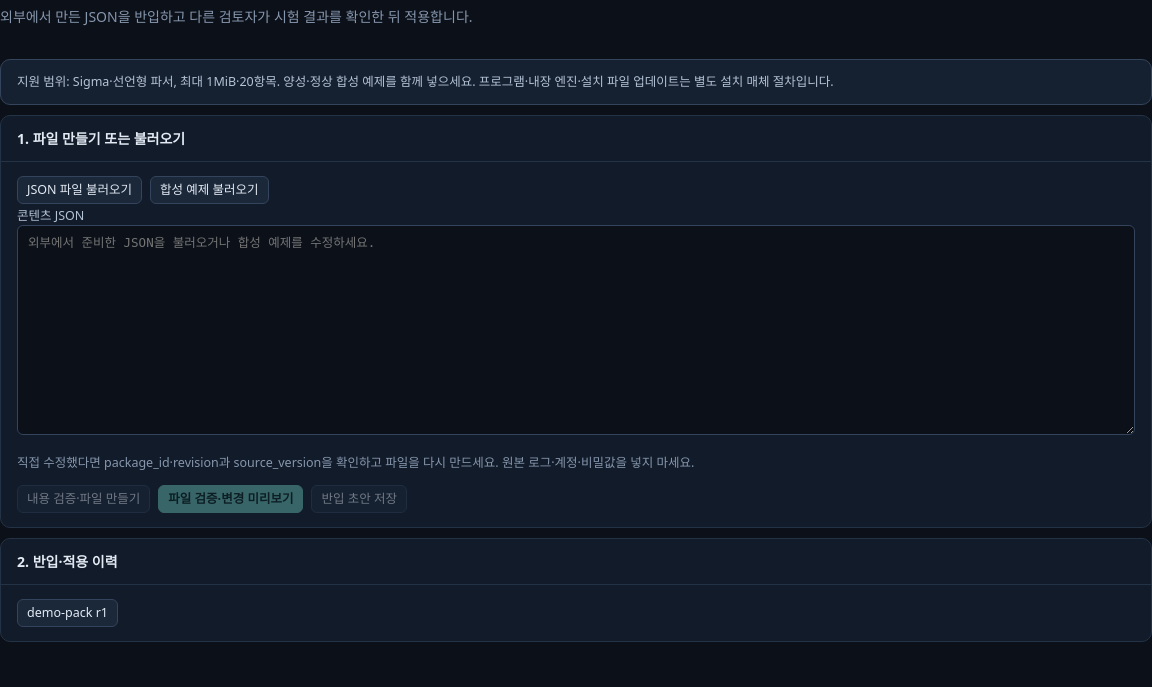
Test case: offline content packages › shows drift and refuses rollback after the live state changed
The width and height of the screenshot is (1152, 687).
Step 1. Click the button "demo-pack r1" → (68, 613), box top-left (17, 599), bottom-right (118, 627)
(page scrolled)
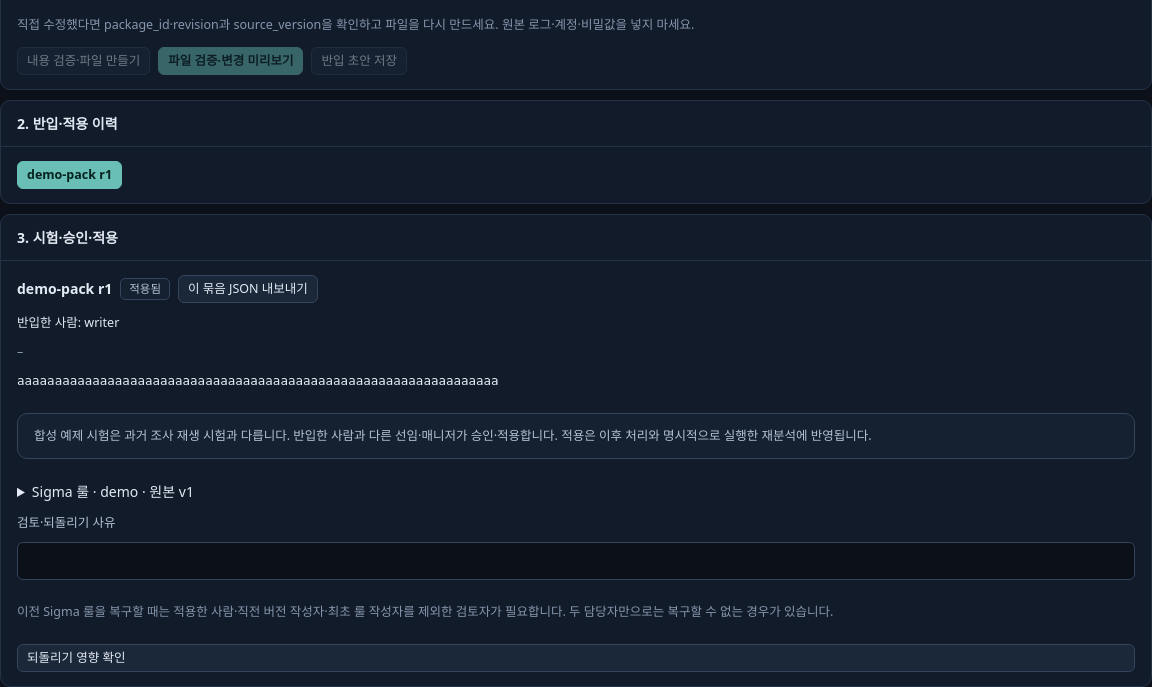
Step 2. Click the button "되돌리기 영향 확인" → (76, 658), box top-left (17, 644), bottom-right (1135, 672)
(page scrolled)
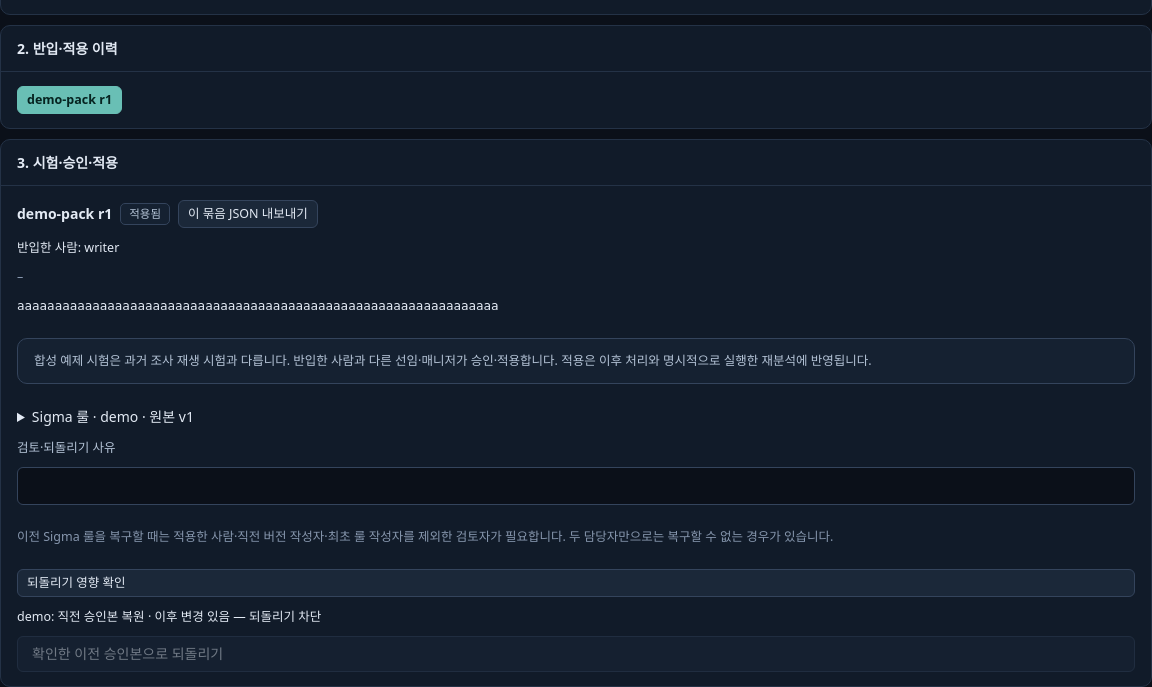
Now the text "demo: 직전 승인본 복원 · 이후 변경 있음 — 되돌리기 차단" is shown, box top-left (17, 608), bottom-right (321, 625)
Now the button "확인한 이전 승인본으로 되돌리기" is disabled, box top-left (17, 636), bottom-right (1135, 672)
